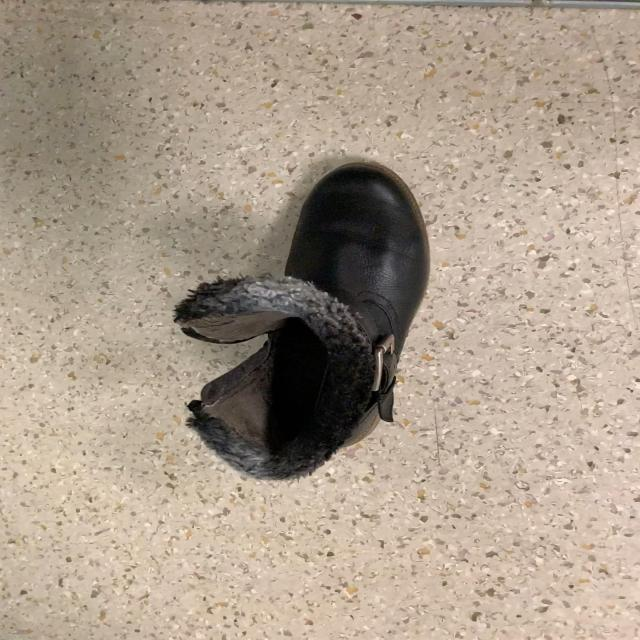shoe: (285, 158, 442, 431)
